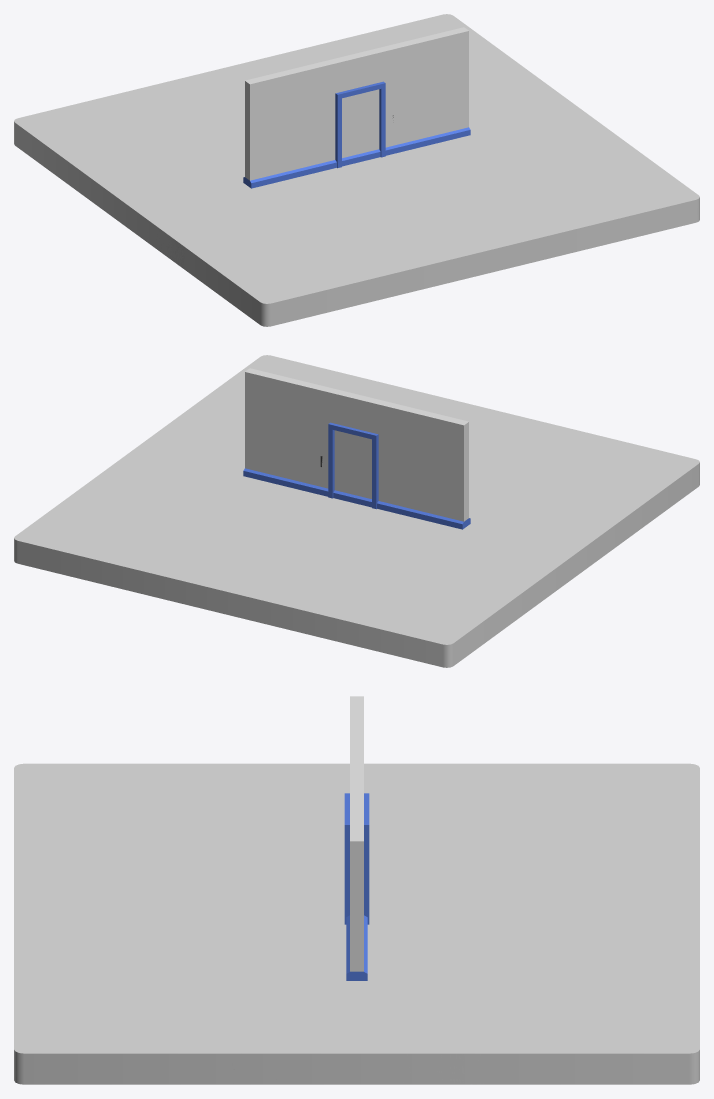
The model's file is Enviroments.fbx.
3 renders of one model, top to bottom at view 1: azimuth 30°, elevation 25°; view 2: azimuth 150°, elevation 25°; view 3: azimuth 270°, elevation 25°, orthographic. The views are drawn at different scales.
Parts seen in each view (by area): view 1: Floor_01, Wall_02, Wall_01, Floor_03, Floor_02; view 2: Floor_01, Floor_03, Wall_02, Wall_01; view 3: Floor_01, Floor_02, Floor_03, Wall_02.
Boxes of the visible parts, x1=… form: Floor_01: x1=14, y1=14, x2=699, y2=326; Wall_02: x1=243, y1=27, x2=470, y2=188; Wall_01: x1=244, y1=31, x2=470, y2=187; Floor_03: x1=90, y1=69, x2=584, y2=268; Floor_02: x1=187, y1=125, x2=526, y2=229; Floor_01: x1=14, y1=355, x2=699, y2=667; Floor_03: x1=90, y1=410, x2=623, y2=589; Wall_02: x1=243, y1=368, x2=470, y2=529; Wall_01: x1=243, y1=372, x2=470, y2=528; Floor_01: x1=14, y1=763, x2=699, y2=1084; Floor_02: x1=185, y1=836, x2=528, y2=980; Floor_03: x1=219, y1=763, x2=494, y2=1084; Wall_02: x1=344, y1=696, x2=369, y2=980.
Bounding box in the file's own units: 20 × 5.5 × 20.
